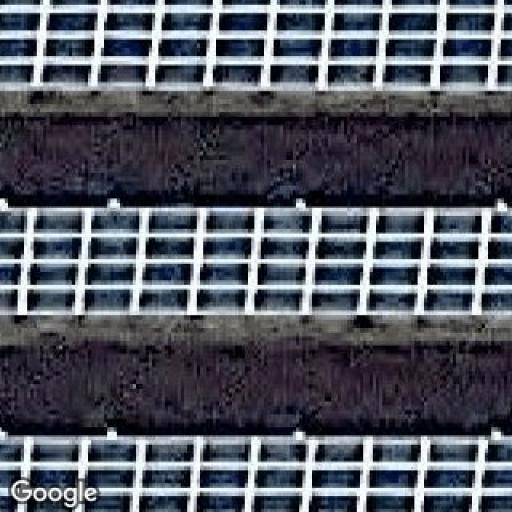solar-panel: (0, 208, 512, 318), (0, 0, 512, 96), (0, 432, 512, 512)
